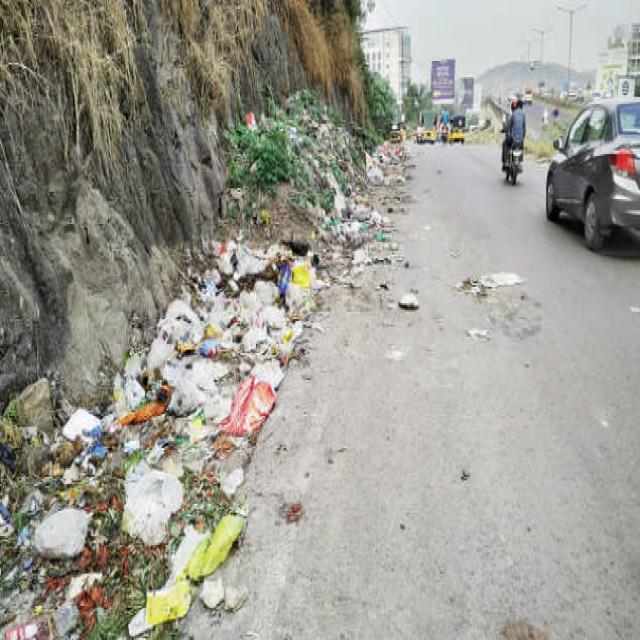garbage: (0, 128, 407, 640)
